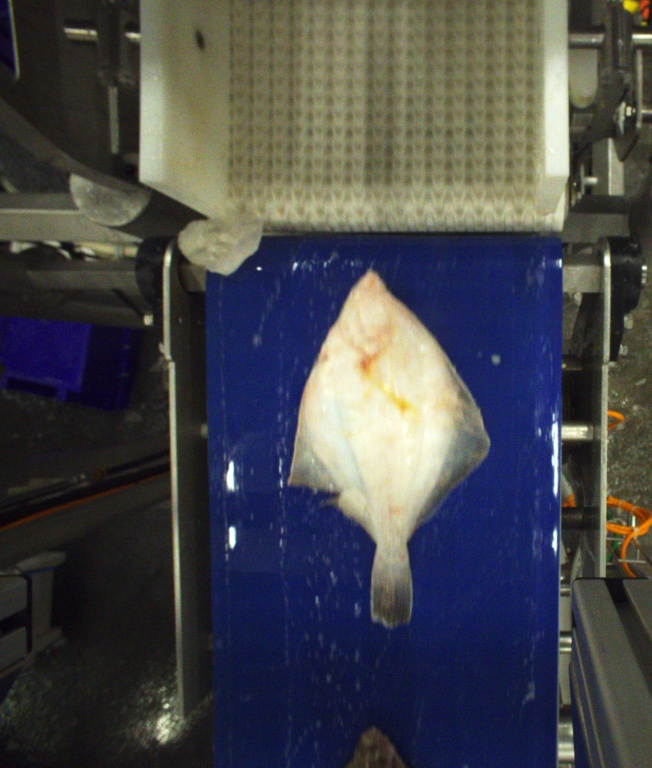PLE: (286, 268, 492, 632)
